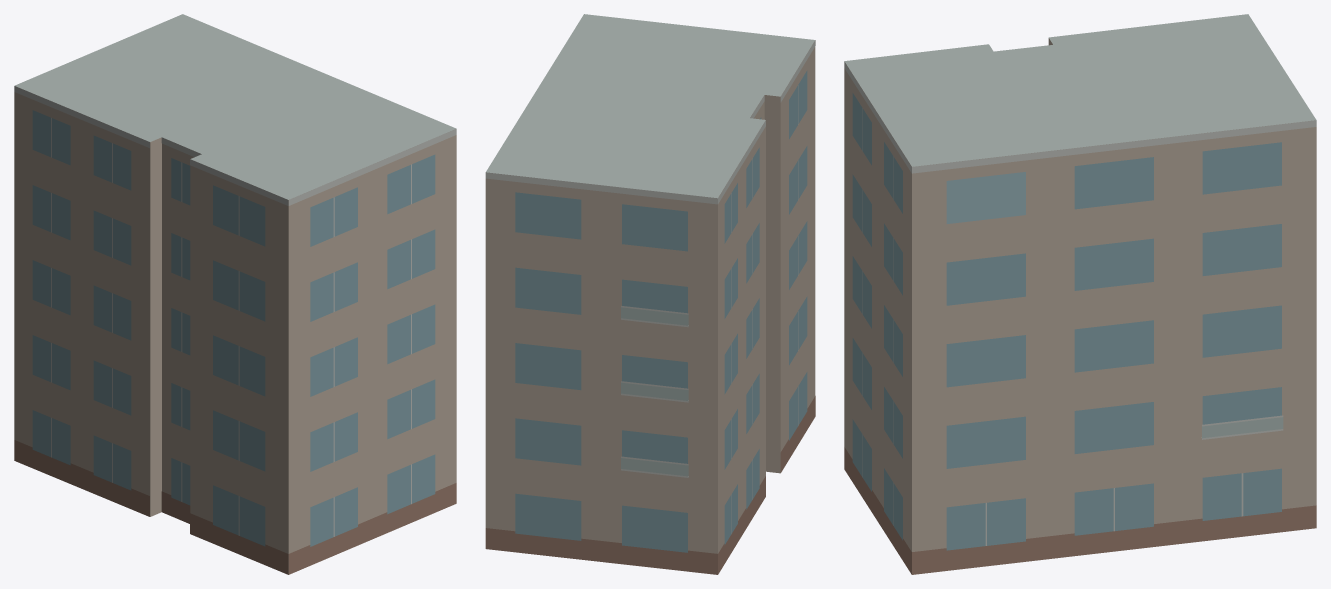
Rendered from survey-upis-32987389.glb.
3 renders of one model, left to right at view 1: azimuth 30°, elevation 25°; view 2: azimuth 150°, elevation 25°; view 3: azimuth 270°, elevation 25°, orthographic. The views are drawn at different scales.
Parts seen in each view (by area): view 1: survey-upis-32987389.tmp; view 2: survey-upis-32987389.tmp; view 3: survey-upis-32987389.tmp.
Part boxes in pixels (<box>): survey-upis-32987389.tmp: <box>14,14,456,574</box>; survey-upis-32987389.tmp: <box>485,14,815,574</box>; survey-upis-32987389.tmp: <box>844,14,1316,574</box>.
Bounding box in the file's own units: 11.9 × 14.8 × 15.54.
